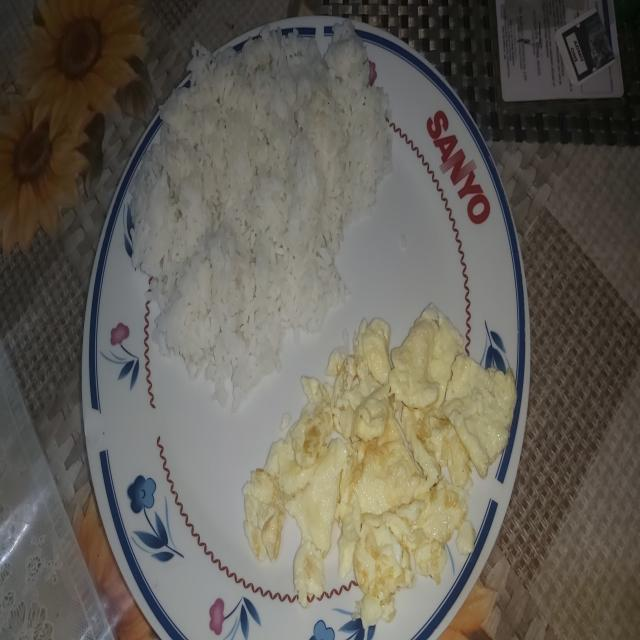Chicken -Chicken Inasal-: (130, 12, 375, 384)
